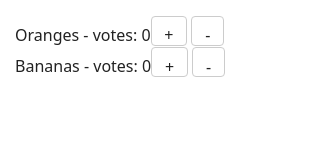
Test: GroceryApp Component › decrements vote count when downvote button is clicked
Note: Find and click the downvote button for Bananas
Click the button "-" in the row of "Bananas" at (208, 62), box left=192, top=47, right=225, bottom=77
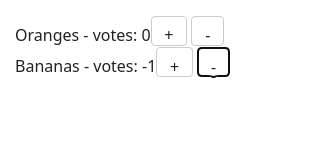
Check: the text "votes: -1" is shown, box left=93, top=56, right=156, bottom=78
